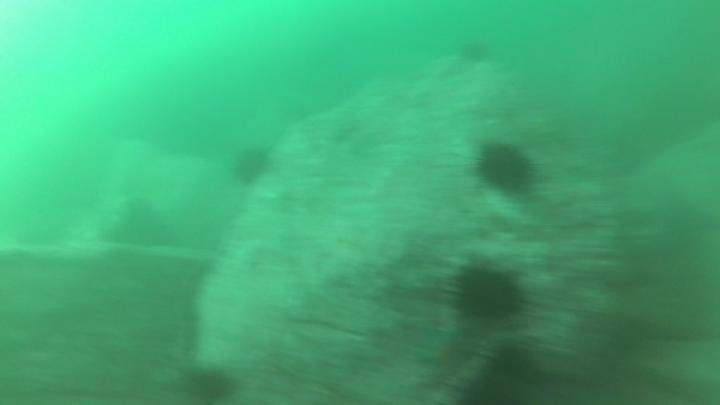echinus: (447, 258, 530, 327), (471, 137, 540, 198), (463, 365, 524, 404), (182, 363, 239, 403), (229, 142, 275, 189), (485, 334, 533, 376), (457, 35, 494, 67)
starfish: (411, 323, 474, 381)
